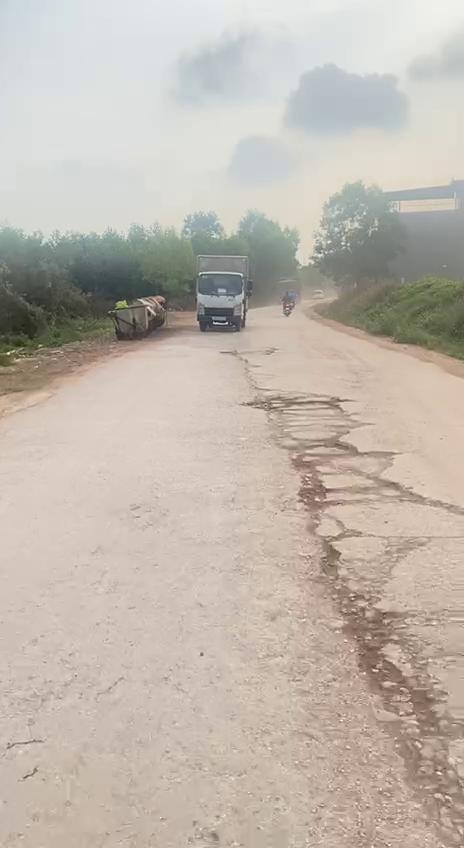pothole: (319, 544, 434, 728), (287, 442, 330, 527), (244, 384, 348, 416)
